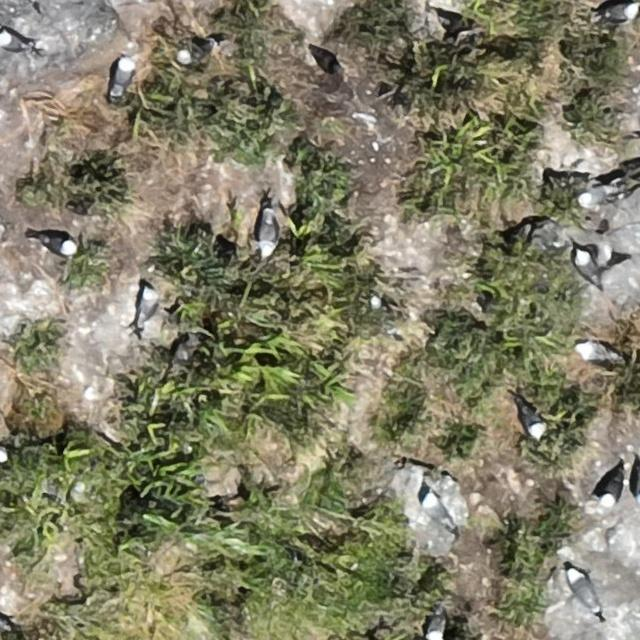umineko: (570, 573, 599, 610), (258, 211, 278, 255), (178, 42, 215, 62), (137, 287, 157, 323), (520, 405, 542, 436), (42, 235, 76, 255), (424, 495, 447, 524), (115, 58, 134, 92), (603, 473, 623, 504), (603, 4, 637, 22), (576, 342, 607, 361), (577, 188, 609, 206), (576, 252, 594, 282), (1, 33, 27, 53), (427, 612, 445, 639), (0, 442, 6, 463)
